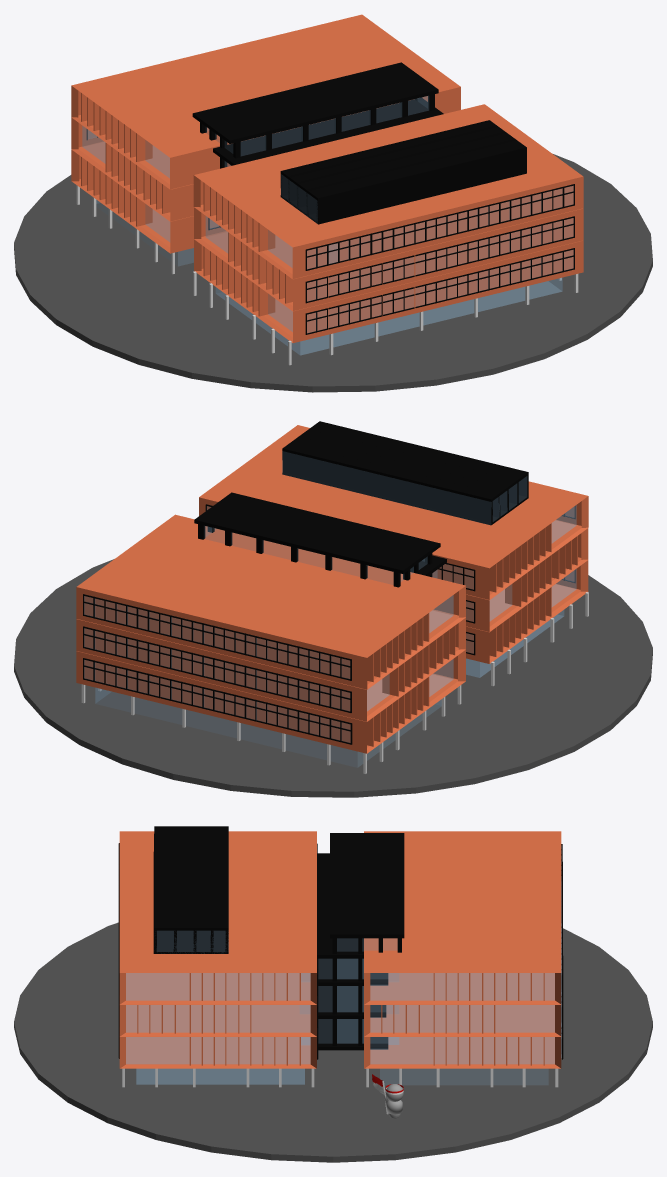
File: UOW.glb
The picture shows the model from 3 angles, top to bottom: view 1: azimuth 30°, elevation 25°; view 2: azimuth 150°, elevation 25°; view 3: azimuth 270°, elevation 25°; orthographic projection.
Parts seen in each view (by area): view 1: Cylinder, Cube.033, Cube.078, Cube.022, Cube.001, Cube.1342, Cube.1363, Cube.1365, Cube.1335, Cube, Cube.112, Cube.089 (+7 smaller); view 2: Cylinder, Cube.078, Cube.033, Cube.110, Cube.089, Cube.1342, Cube.1363, Cube.1344, Cube.1369, Cube.111, Cube.001, Cube.112 (+6 smaller); view 3: Cylinder, Cube.078, Cube.033, Cube.1342, Cube.1363, Cube.001, Cube.022, Cube.089, Cube.110, Cube.1332, Cube.1333, Cube.1337 (+14 smaller).
Part boxes in pixels (bbox=[...]): Cylinder: bbox=[14, 154, 652, 392]; Cube.033: bbox=[193, 104, 583, 278]; Cube.078: bbox=[71, 14, 460, 189]; Cube.022: bbox=[194, 207, 583, 310]; Cube.001: bbox=[194, 239, 583, 343]; Cube.1342: bbox=[192, 62, 438, 143]; Cube.1363: bbox=[280, 121, 526, 200]; Cube.1365: bbox=[316, 150, 526, 224]; Cube.1335: bbox=[213, 98, 443, 165]; Cube: bbox=[216, 278, 562, 355]; Cube.112: bbox=[206, 96, 428, 166]; Cube.089: bbox=[71, 117, 193, 221]; Cylinder: bbox=[14, 559, 652, 797]; Cube.078: bbox=[76, 514, 465, 689]; Cube.033: bbox=[199, 425, 588, 599]; Cube.110: bbox=[76, 649, 465, 753]; Cube.089: bbox=[76, 618, 465, 721]; Cube.1342: bbox=[194, 492, 440, 573]; Cube.1363: bbox=[284, 421, 528, 501]; Cube.1344: bbox=[282, 451, 526, 524]; Cube.1369: bbox=[282, 447, 492, 523]; Cube.111: bbox=[95, 688, 441, 767]; Cube.001: bbox=[466, 560, 588, 663]; Cube.112: bbox=[204, 526, 427, 584]; Cylinder: bbox=[14, 922, 652, 1162]; Cube.078: bbox=[364, 831, 561, 1004]; Cube.033: bbox=[119, 831, 316, 1004]; Cube.1342: bbox=[330, 833, 404, 938]; Cube.1363: bbox=[154, 826, 228, 930]; Cube.001: bbox=[119, 1036, 316, 1068]; Cube.022: bbox=[119, 1004, 316, 1036]; Cube.089: bbox=[364, 1004, 561, 1036]; Cube.110: bbox=[364, 1036, 561, 1068]; Cube.1332: bbox=[370, 973, 554, 1000]; Cube.1333: bbox=[370, 1005, 554, 1032]; Cube.1337: bbox=[126, 1005, 310, 1032].
Size of the model in its own units: 69.84 by 18.12 by 69.84.
